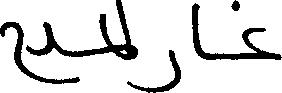X: (99, 0, 136, 92), (243, 23, 281, 64), (148, 45, 181, 92), (0, 17, 22, 76), (45, 17, 54, 88), (191, 0, 201, 62)
